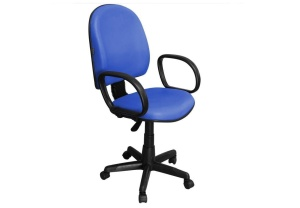chair: (88, 3, 195, 204)
